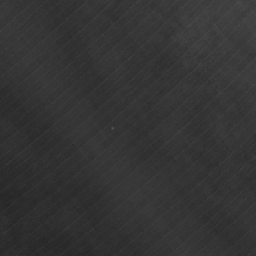Target: (109, 125, 115, 132)
